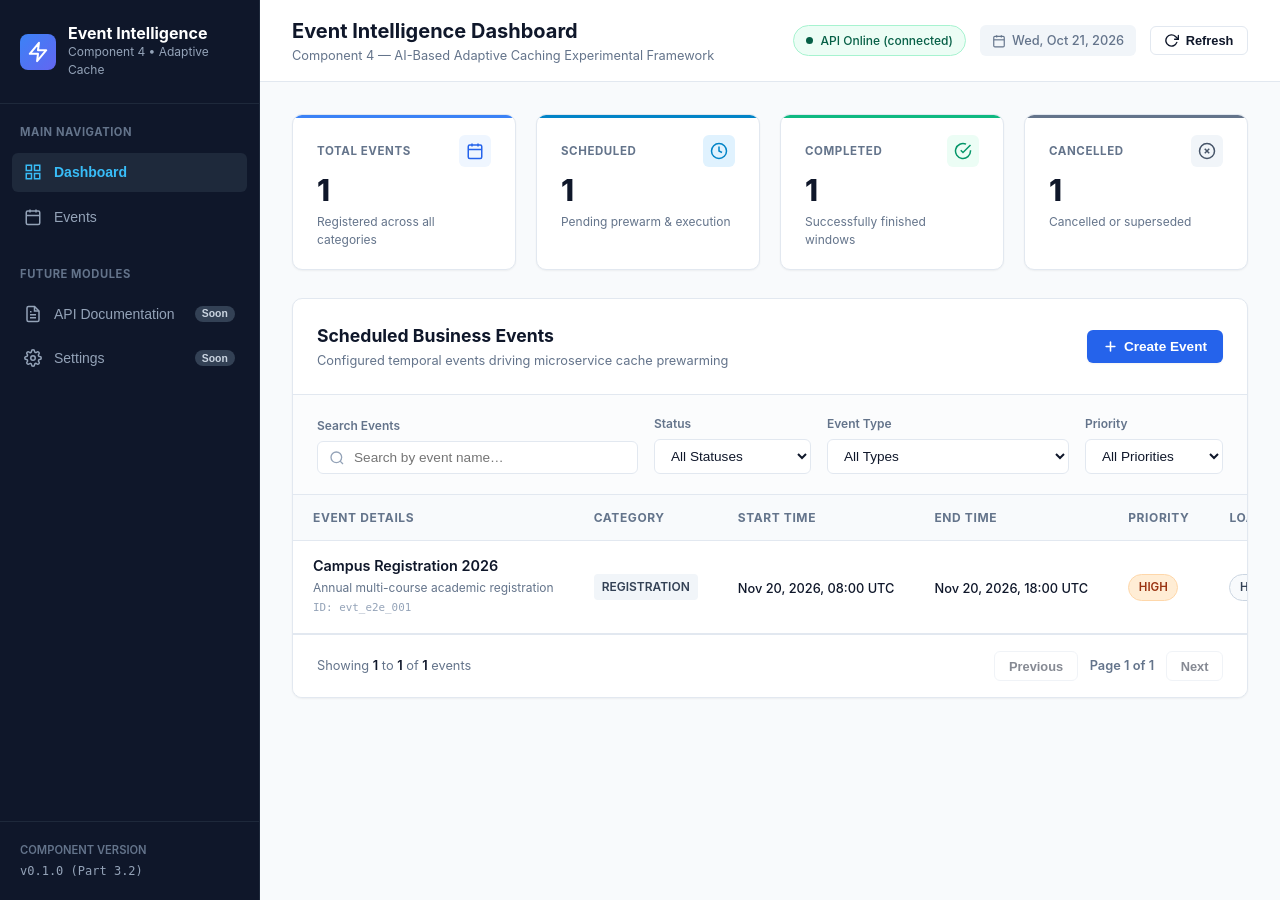
Test case: Part 3.5: Frontend End-to-End Workflow & Integration Tests › Workflow: Inspection -> Cancellation Confirmation -> Status CANCELLED -> Refresh
# Open Details Modal
Click the button "Campus Registration 2026".
click(433, 567)  # box [313, 557, 554, 576]
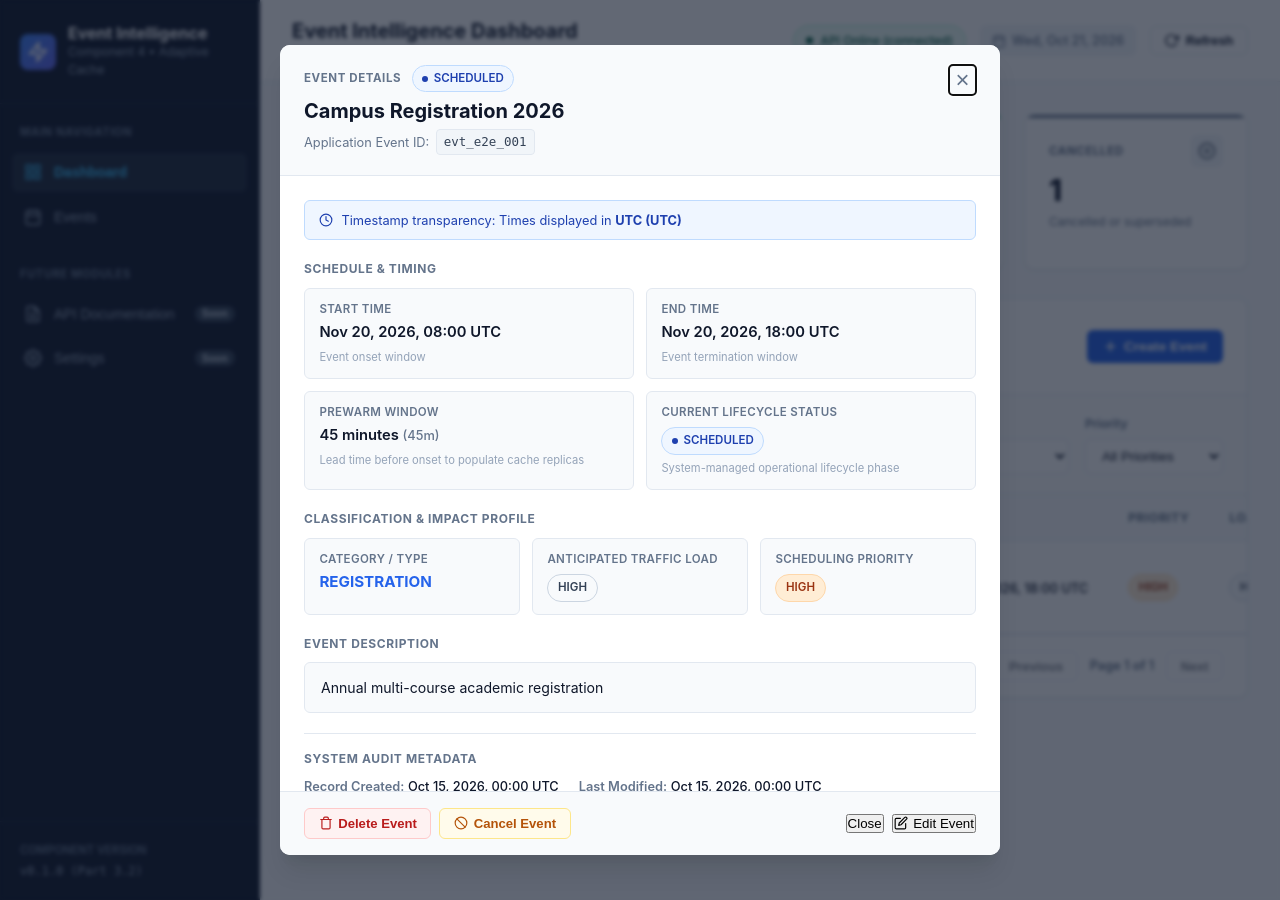
expect the dialog "Campus Registration 2026" is shown: met, box [280, 45, 1000, 855]
expect the button with aria-label "Cancel scheduled event Campus Registration 2026" is enabled: met
Click the button with aria-label "Cancel scheduled event Campus Registration 2026".
click(505, 823)  # box [440, 808, 571, 839]
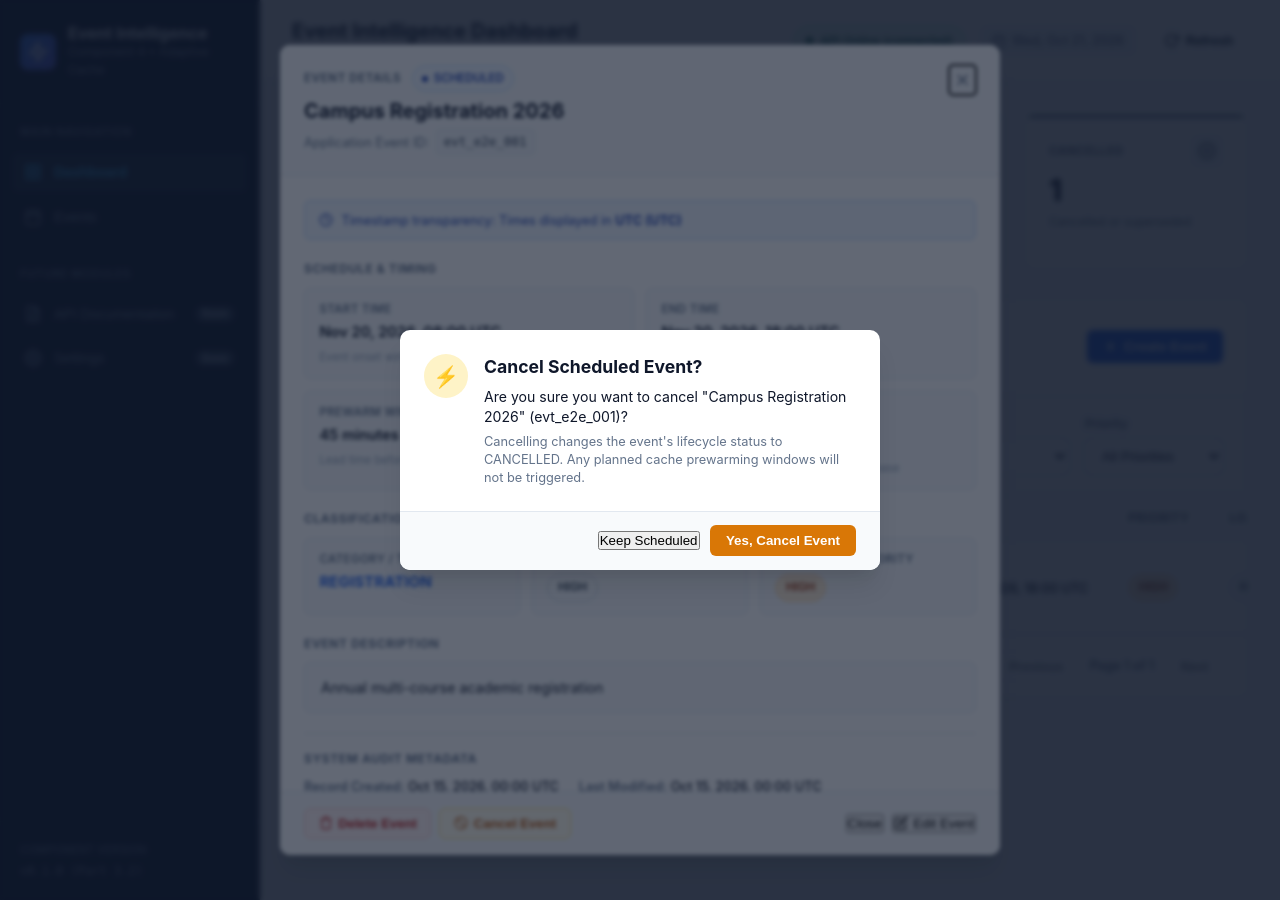
expect the heading "Cancel Scheduled Event?" is shown: met, box [484, 356, 702, 377]
# Confirm Cancellation
Click the button "Yes, Cancel Event".
click(783, 541)  # box [710, 525, 856, 556]
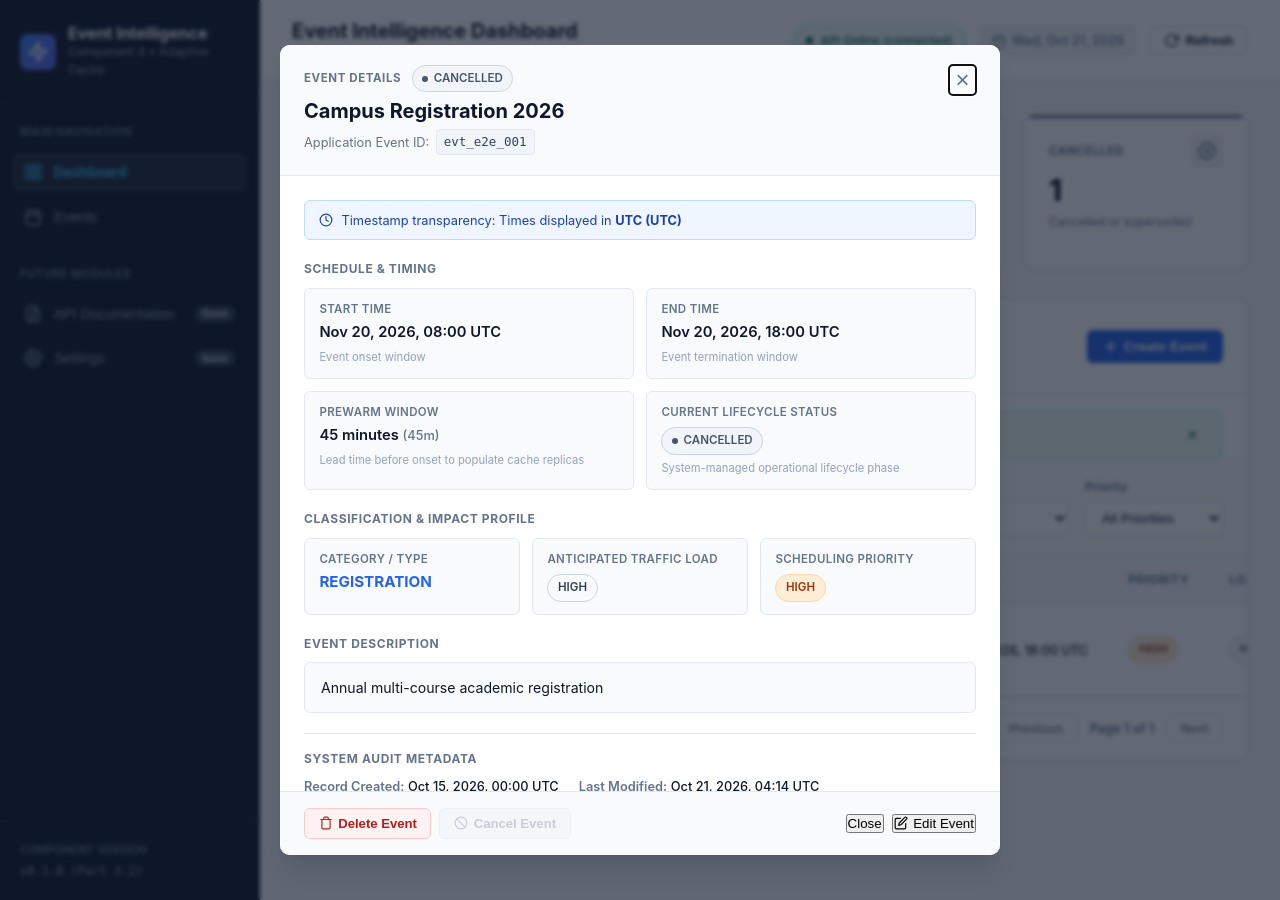
expect the heading "Cancel Scheduled Event?" is gone: met
expect the button with aria-label "Cancel scheduled event Campus Registration 2026" is disabled: met, box [440, 808, 571, 839]
